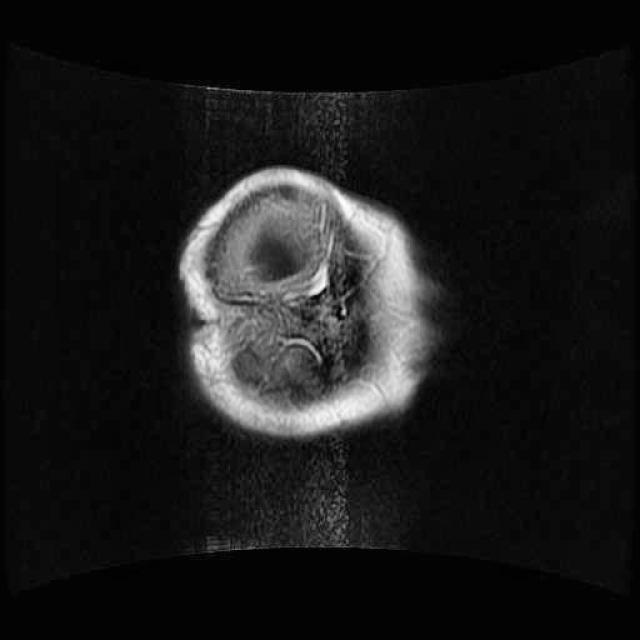Tumor: (226, 202, 343, 318)
